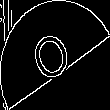O_SE: (29, 21, 81, 89)
